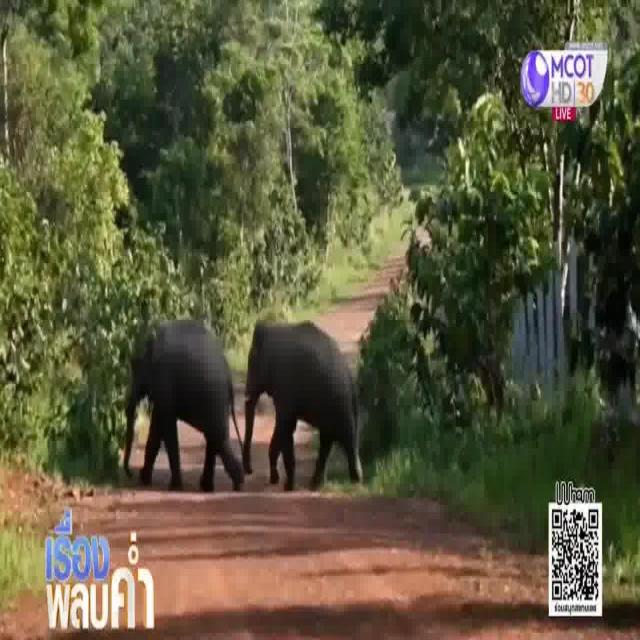Elephant: (245, 313, 358, 485), (134, 309, 240, 479)
